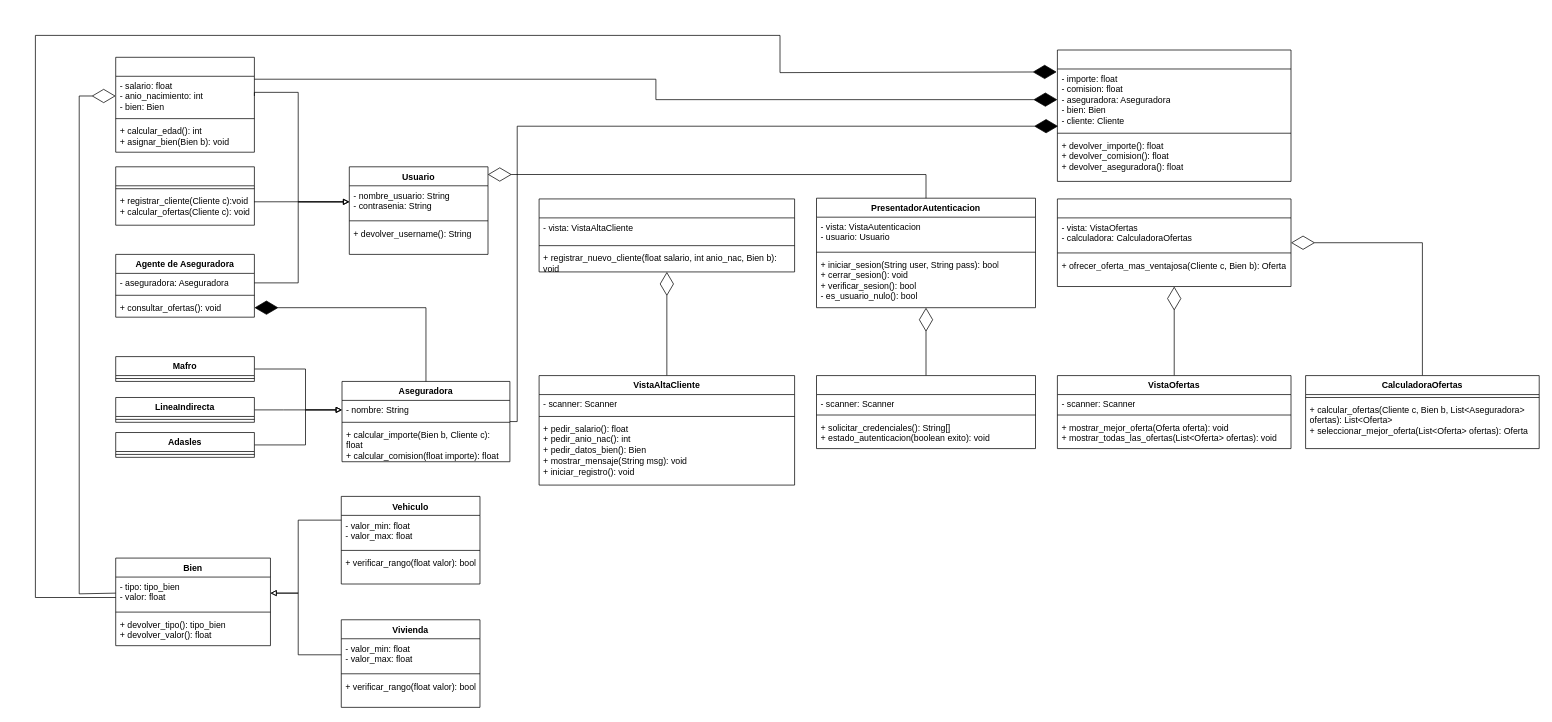
The diagram is 1552 pixels wide and 722 high, and some of its shapes have lost their labels. Here are the shapes that lost their labels. From the top down, the box of each, then its label:
(115, 57, 254, 152): Cliente
(1057, 49, 1291, 181): Oferta
(115, 166, 254, 225): Tecnico Comercial
(538, 198, 795, 272): PresentadorAltaCliente
(1057, 198, 1291, 287): PresentadorOfertas
(816, 375, 1036, 449): VistaAutenticacion
